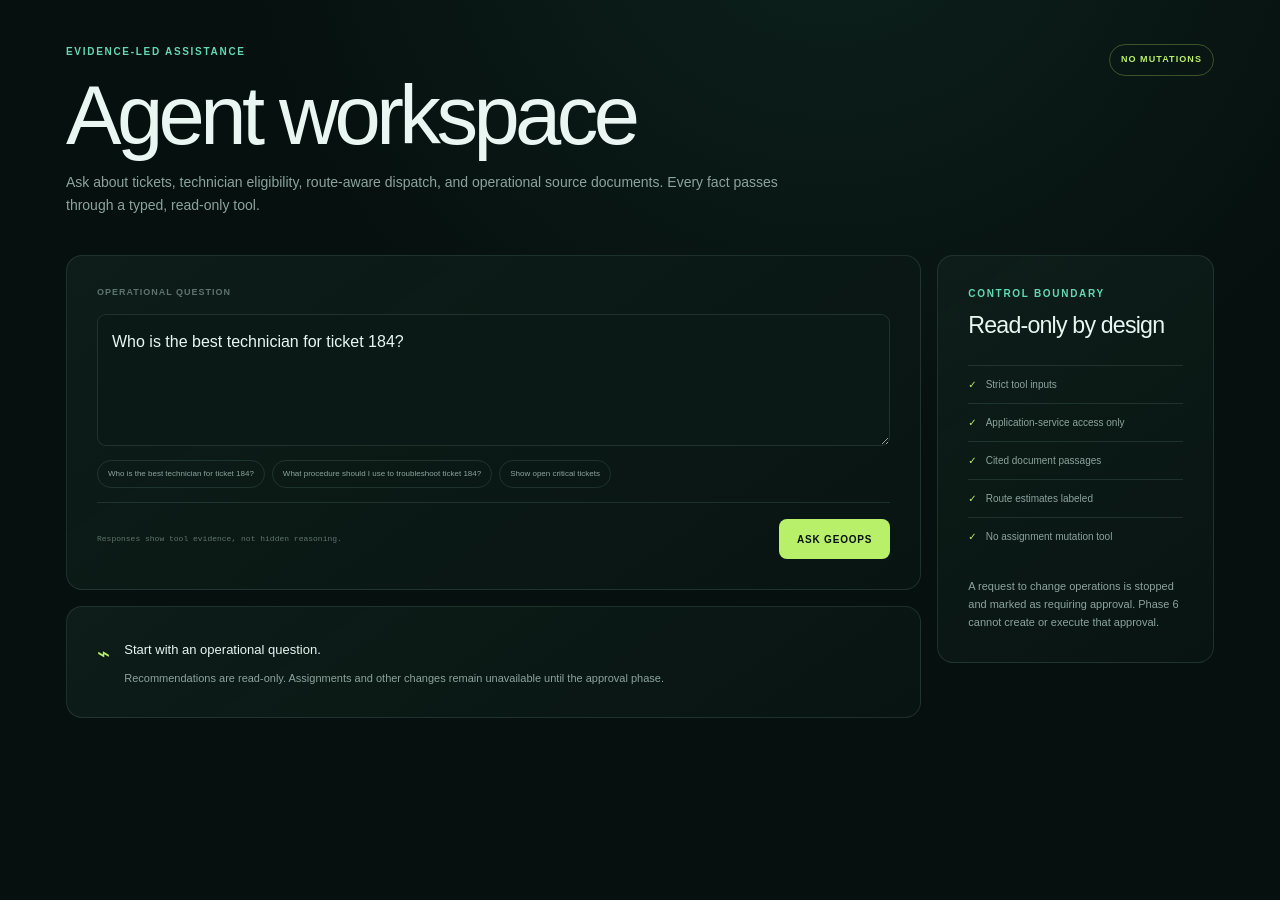
AgentWorkspace › announces API failures
Step 1. Click the button "Ask GeoOps" → {"x": 835, "y": 539}, box [779,519,890,559]
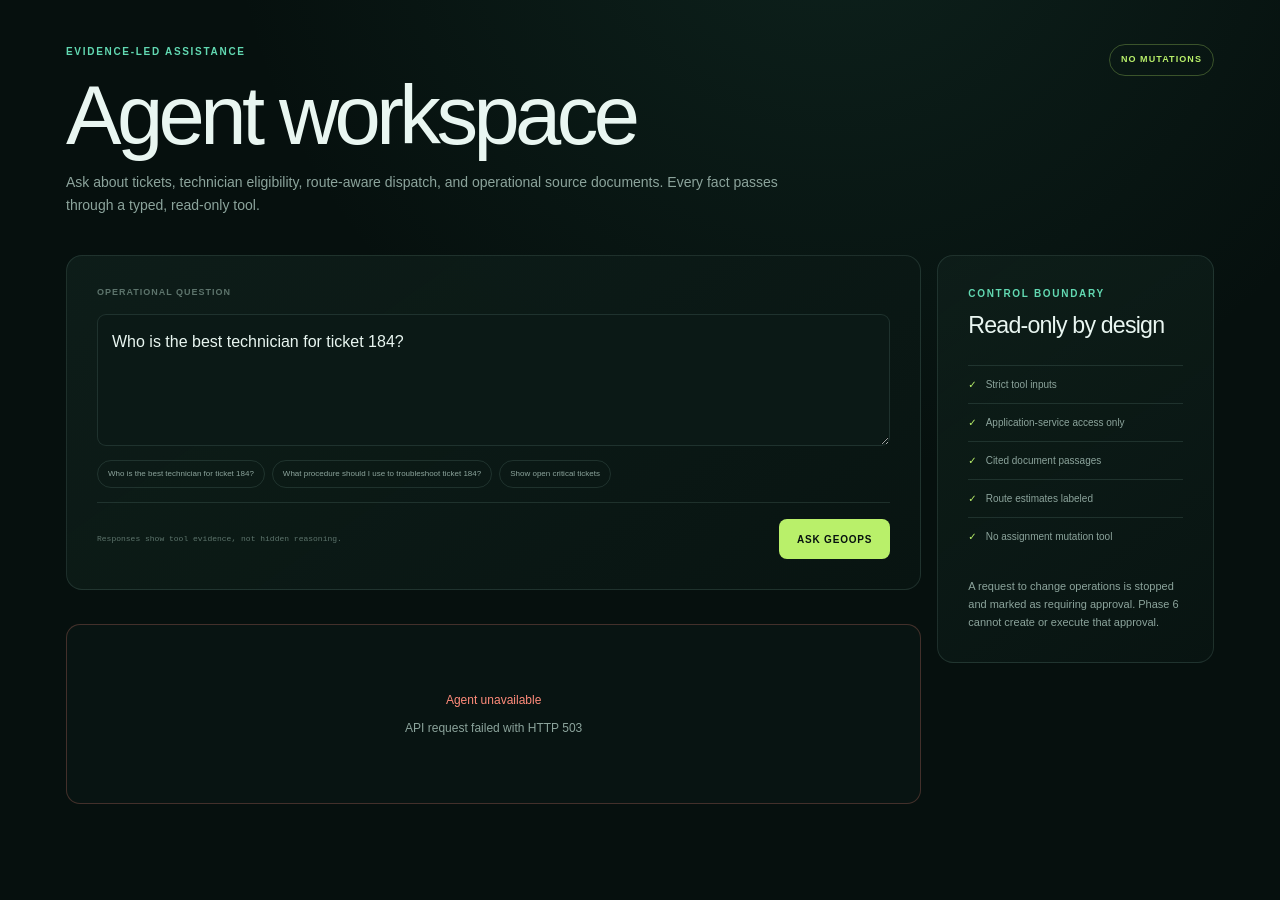
Check: the message shows "Agent unavailable", box [446,693,541,707]
